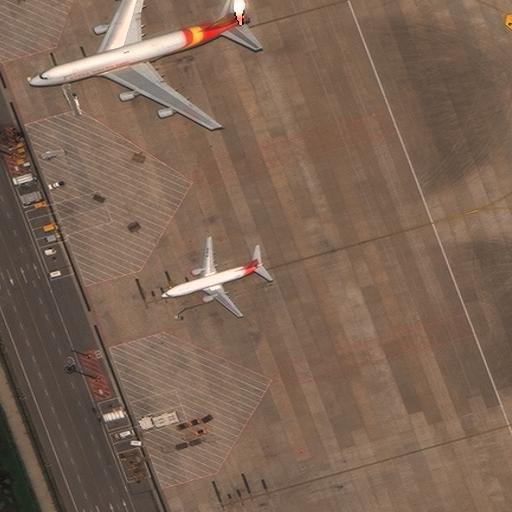Large Civil Transport: (30, 0, 254, 131)
Medium Civil Transport: (162, 237, 263, 316)
